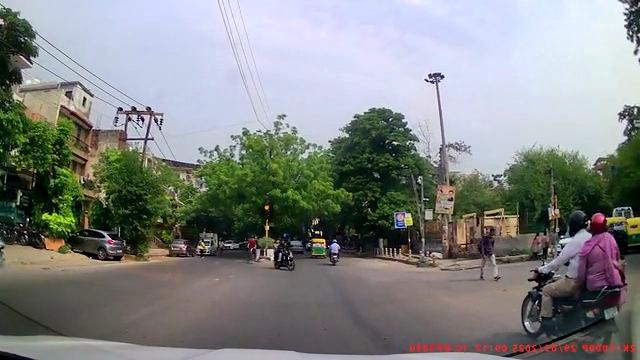motorcycle_with_helmet: (273, 231, 297, 271)
passenger_with_helmet: (520, 208, 628, 340)
